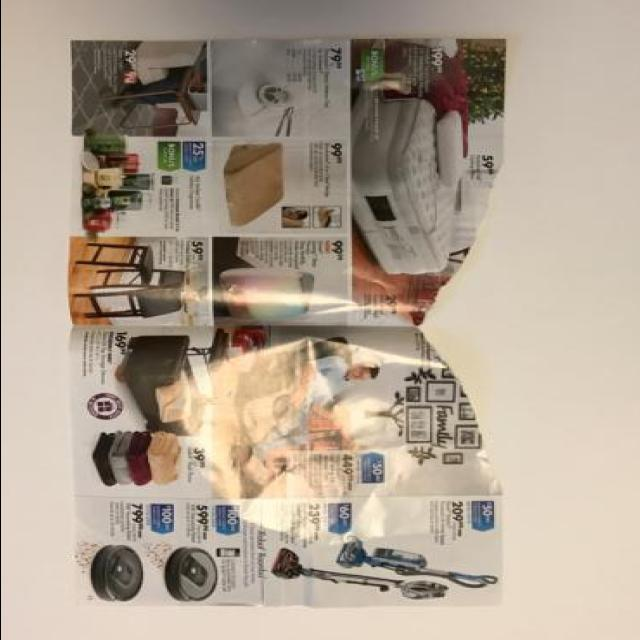kertas: (63, 38, 504, 611)
